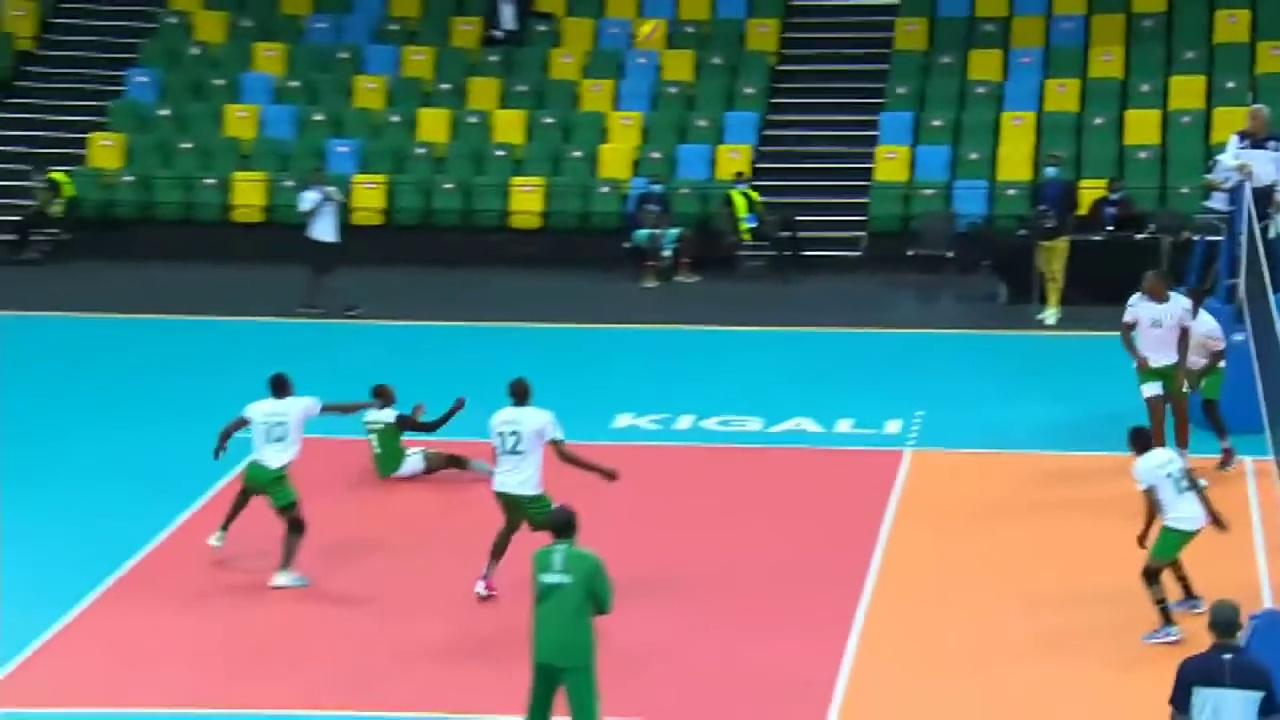player: (467, 376, 620, 604), (208, 371, 331, 592), (1126, 427, 1219, 649), (1119, 269, 1206, 483), (361, 383, 522, 481), (1171, 285, 1248, 476)
refree: (1160, 597, 1279, 720), (1221, 104, 1280, 250)
